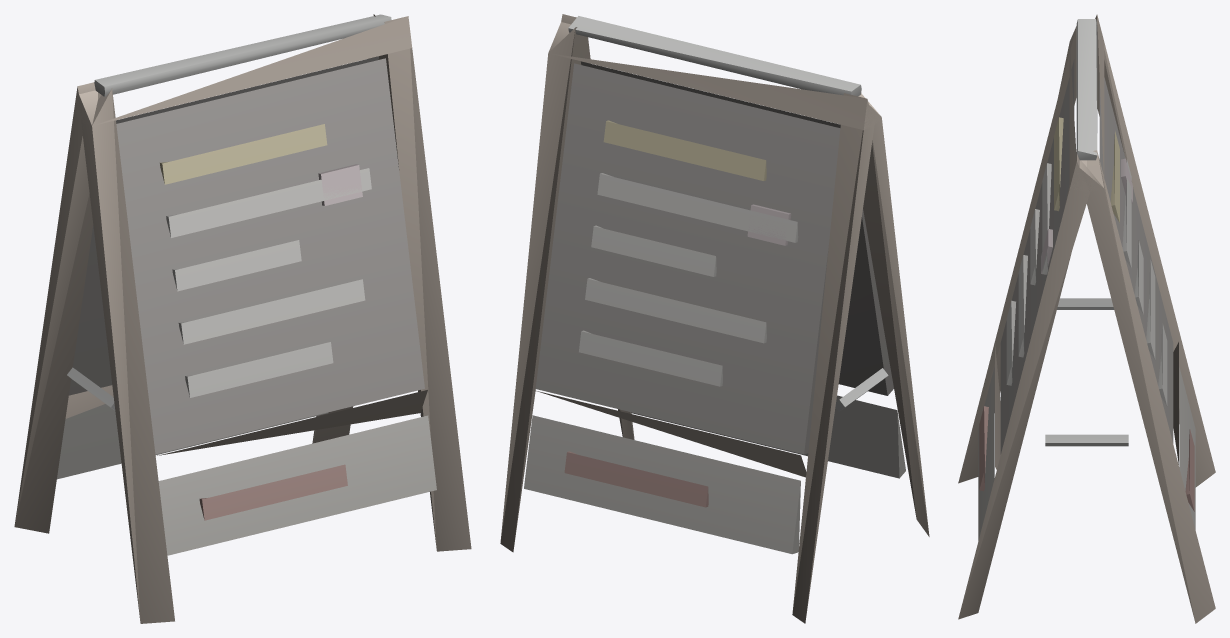
File: board.lod1.glb
3 views of the same model, side by side, from view 1: azimuth 30°, elevation 25°; view 2: azimuth 150°, elevation 25°; view 3: azimuth 270°, elevation 25° (orthographic). The views are drawn at different scales.
Size of the model in its own units: 0.67 by 0.9881 by 0.4959.
